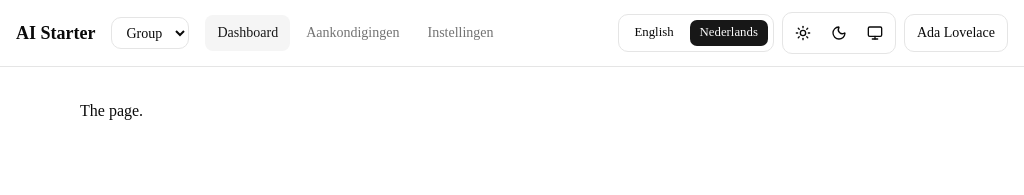
AppShell › renders in Dutch under the Dutch catalog
The image size is (1024, 195).
Expected: the link "Instellingen" is shown, 428,25 -> 494,40
Click the button "Ada Lovelace". click: (956, 33)
box: 904,14 -> 1008,52
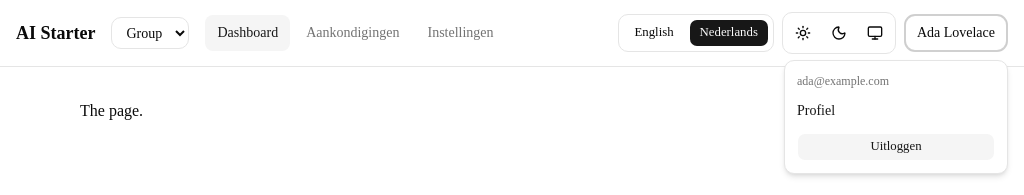
Expected: the button "Uitloggen" is shown, 797,133 -> 995,161
